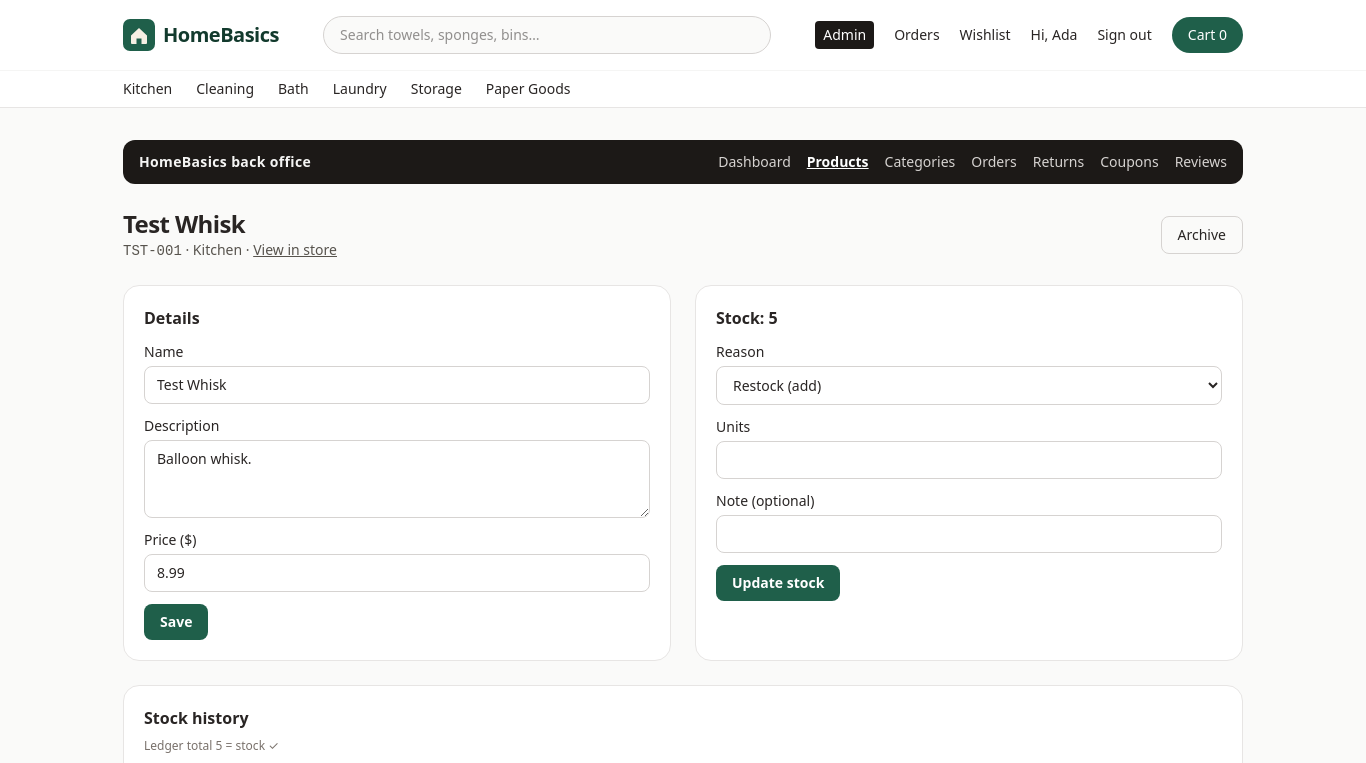
Test: admin products (ADM-01, ADM-02) › a damaged adjustment sends delta 3
Step 1. Select "Damaged (remove)" in the dropdown with test id "admin-adjust-reason" → (969, 386), box [716, 366, 1222, 405]
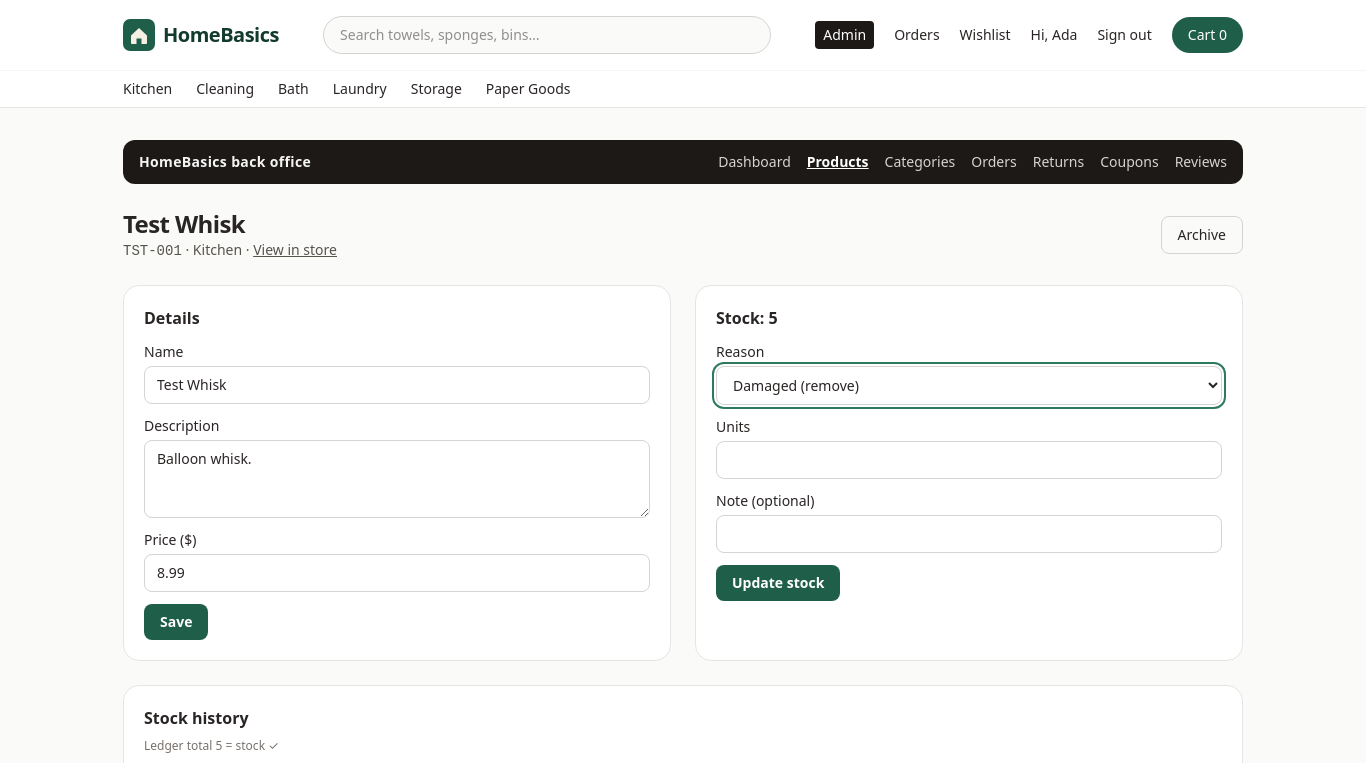
Step 2. Type "3" into the number field with test id "admin-adjust-amount" → (969, 460), box [716, 441, 1222, 479]
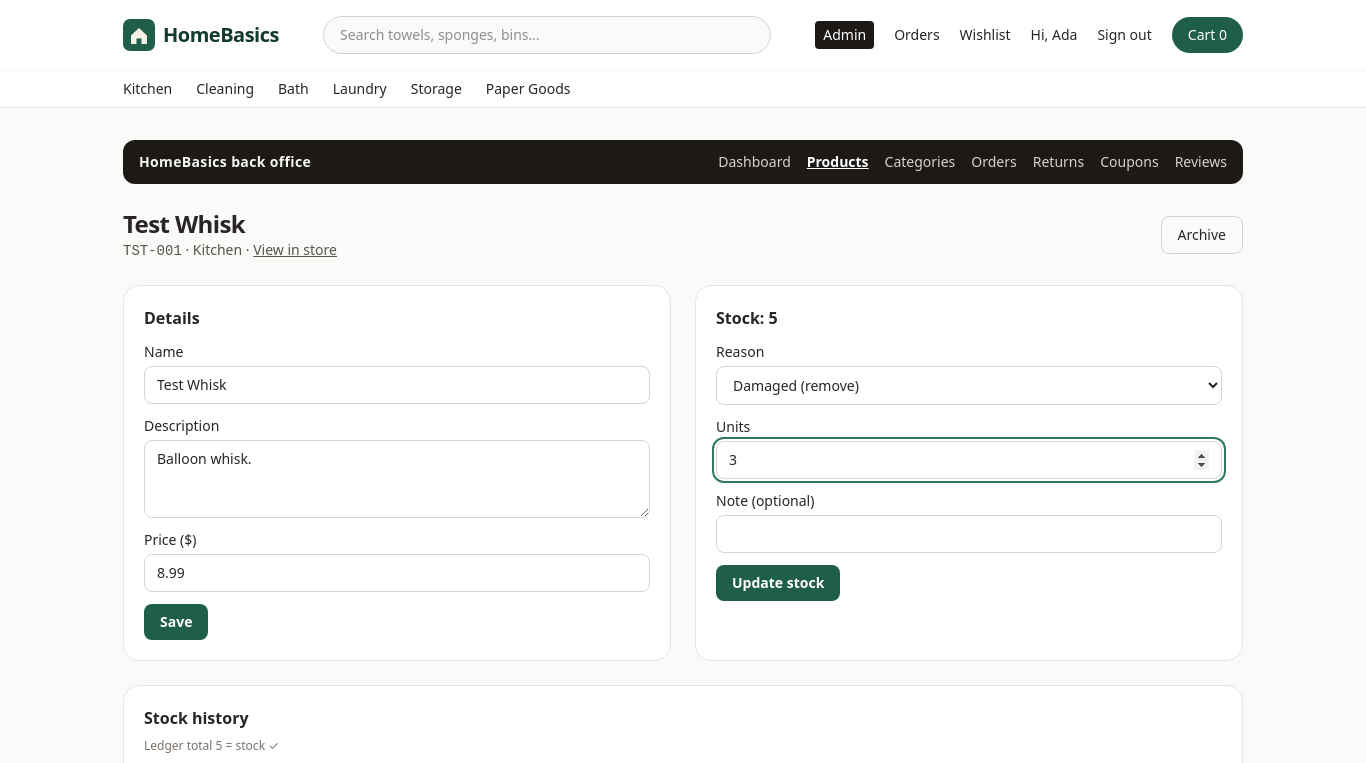
Step 3. Click the button with test id "admin-adjust-submit" → (778, 583), box [716, 565, 840, 601]
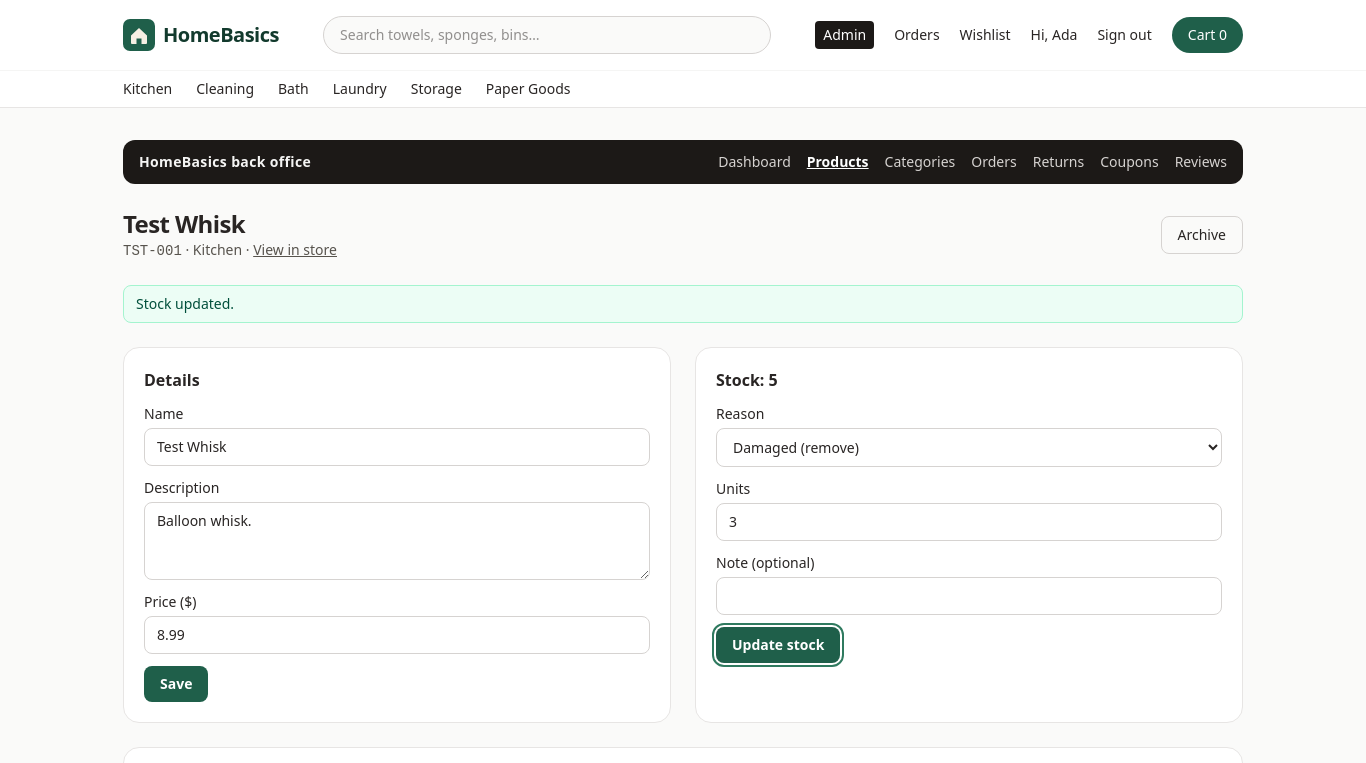
Expected: the message with test id "admin-notice" reads "Stock updated.", [136, 294, 234, 313]
